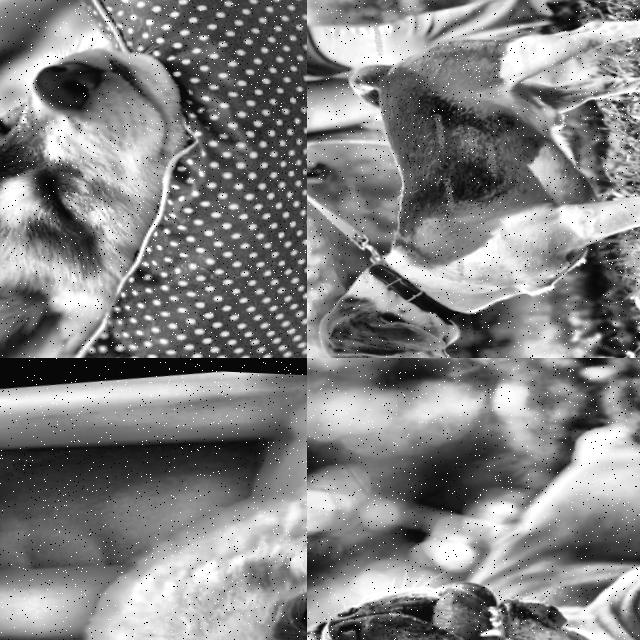beagle: (307, 253, 486, 358)
bulldog: (307, 526, 640, 640)
husky: (0, 5, 284, 358)
poodle: (3, 416, 307, 640)
